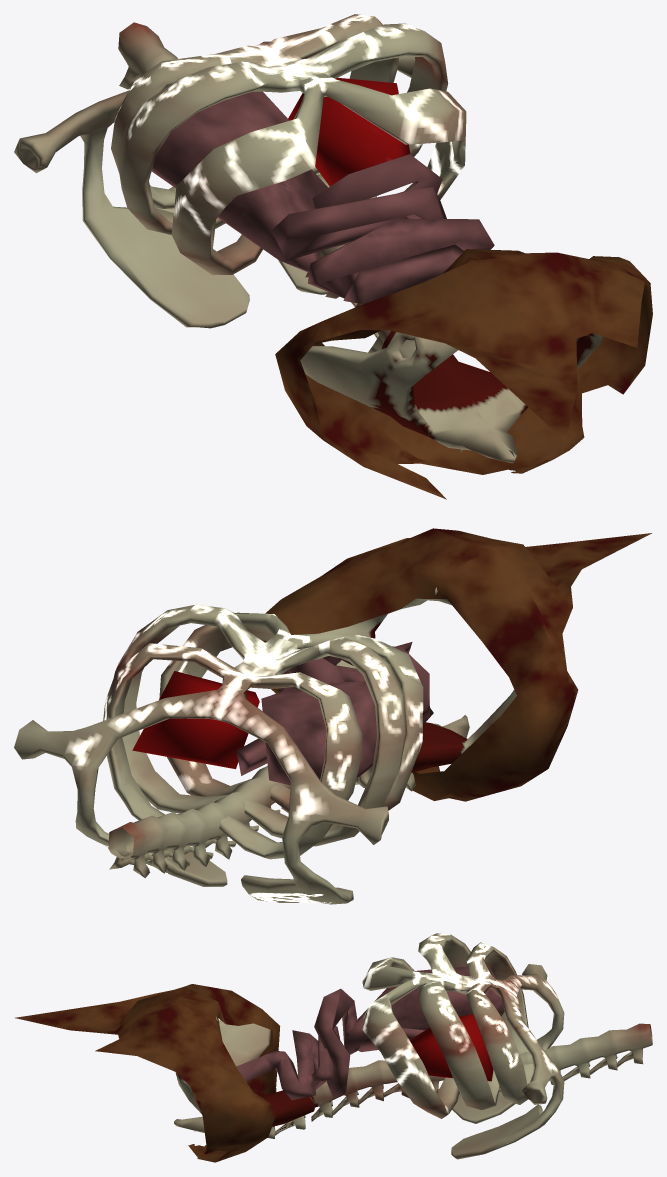
File: Torso_231204.fbx
The picture shows the model from 3 angles, top to bottom: view 1: azimuth 30°, elevation 25°; view 2: azimuth 150°, elevation 25°; view 3: azimuth 270°, elevation 25°; orthographic projection. The views are drawn at different scales.
Visible parts, largest first — view 1: Torso; view 2: Torso; view 3: Torso.
Part boxes in pixels (box(x1,y1,x2,y2)): Torso: box(14, 14, 652, 499); Torso: box(14, 528, 651, 904); Torso: box(15, 933, 652, 1162).
Bounding box in the file's own units: 1.27 × 0.8964 × 2.79.
